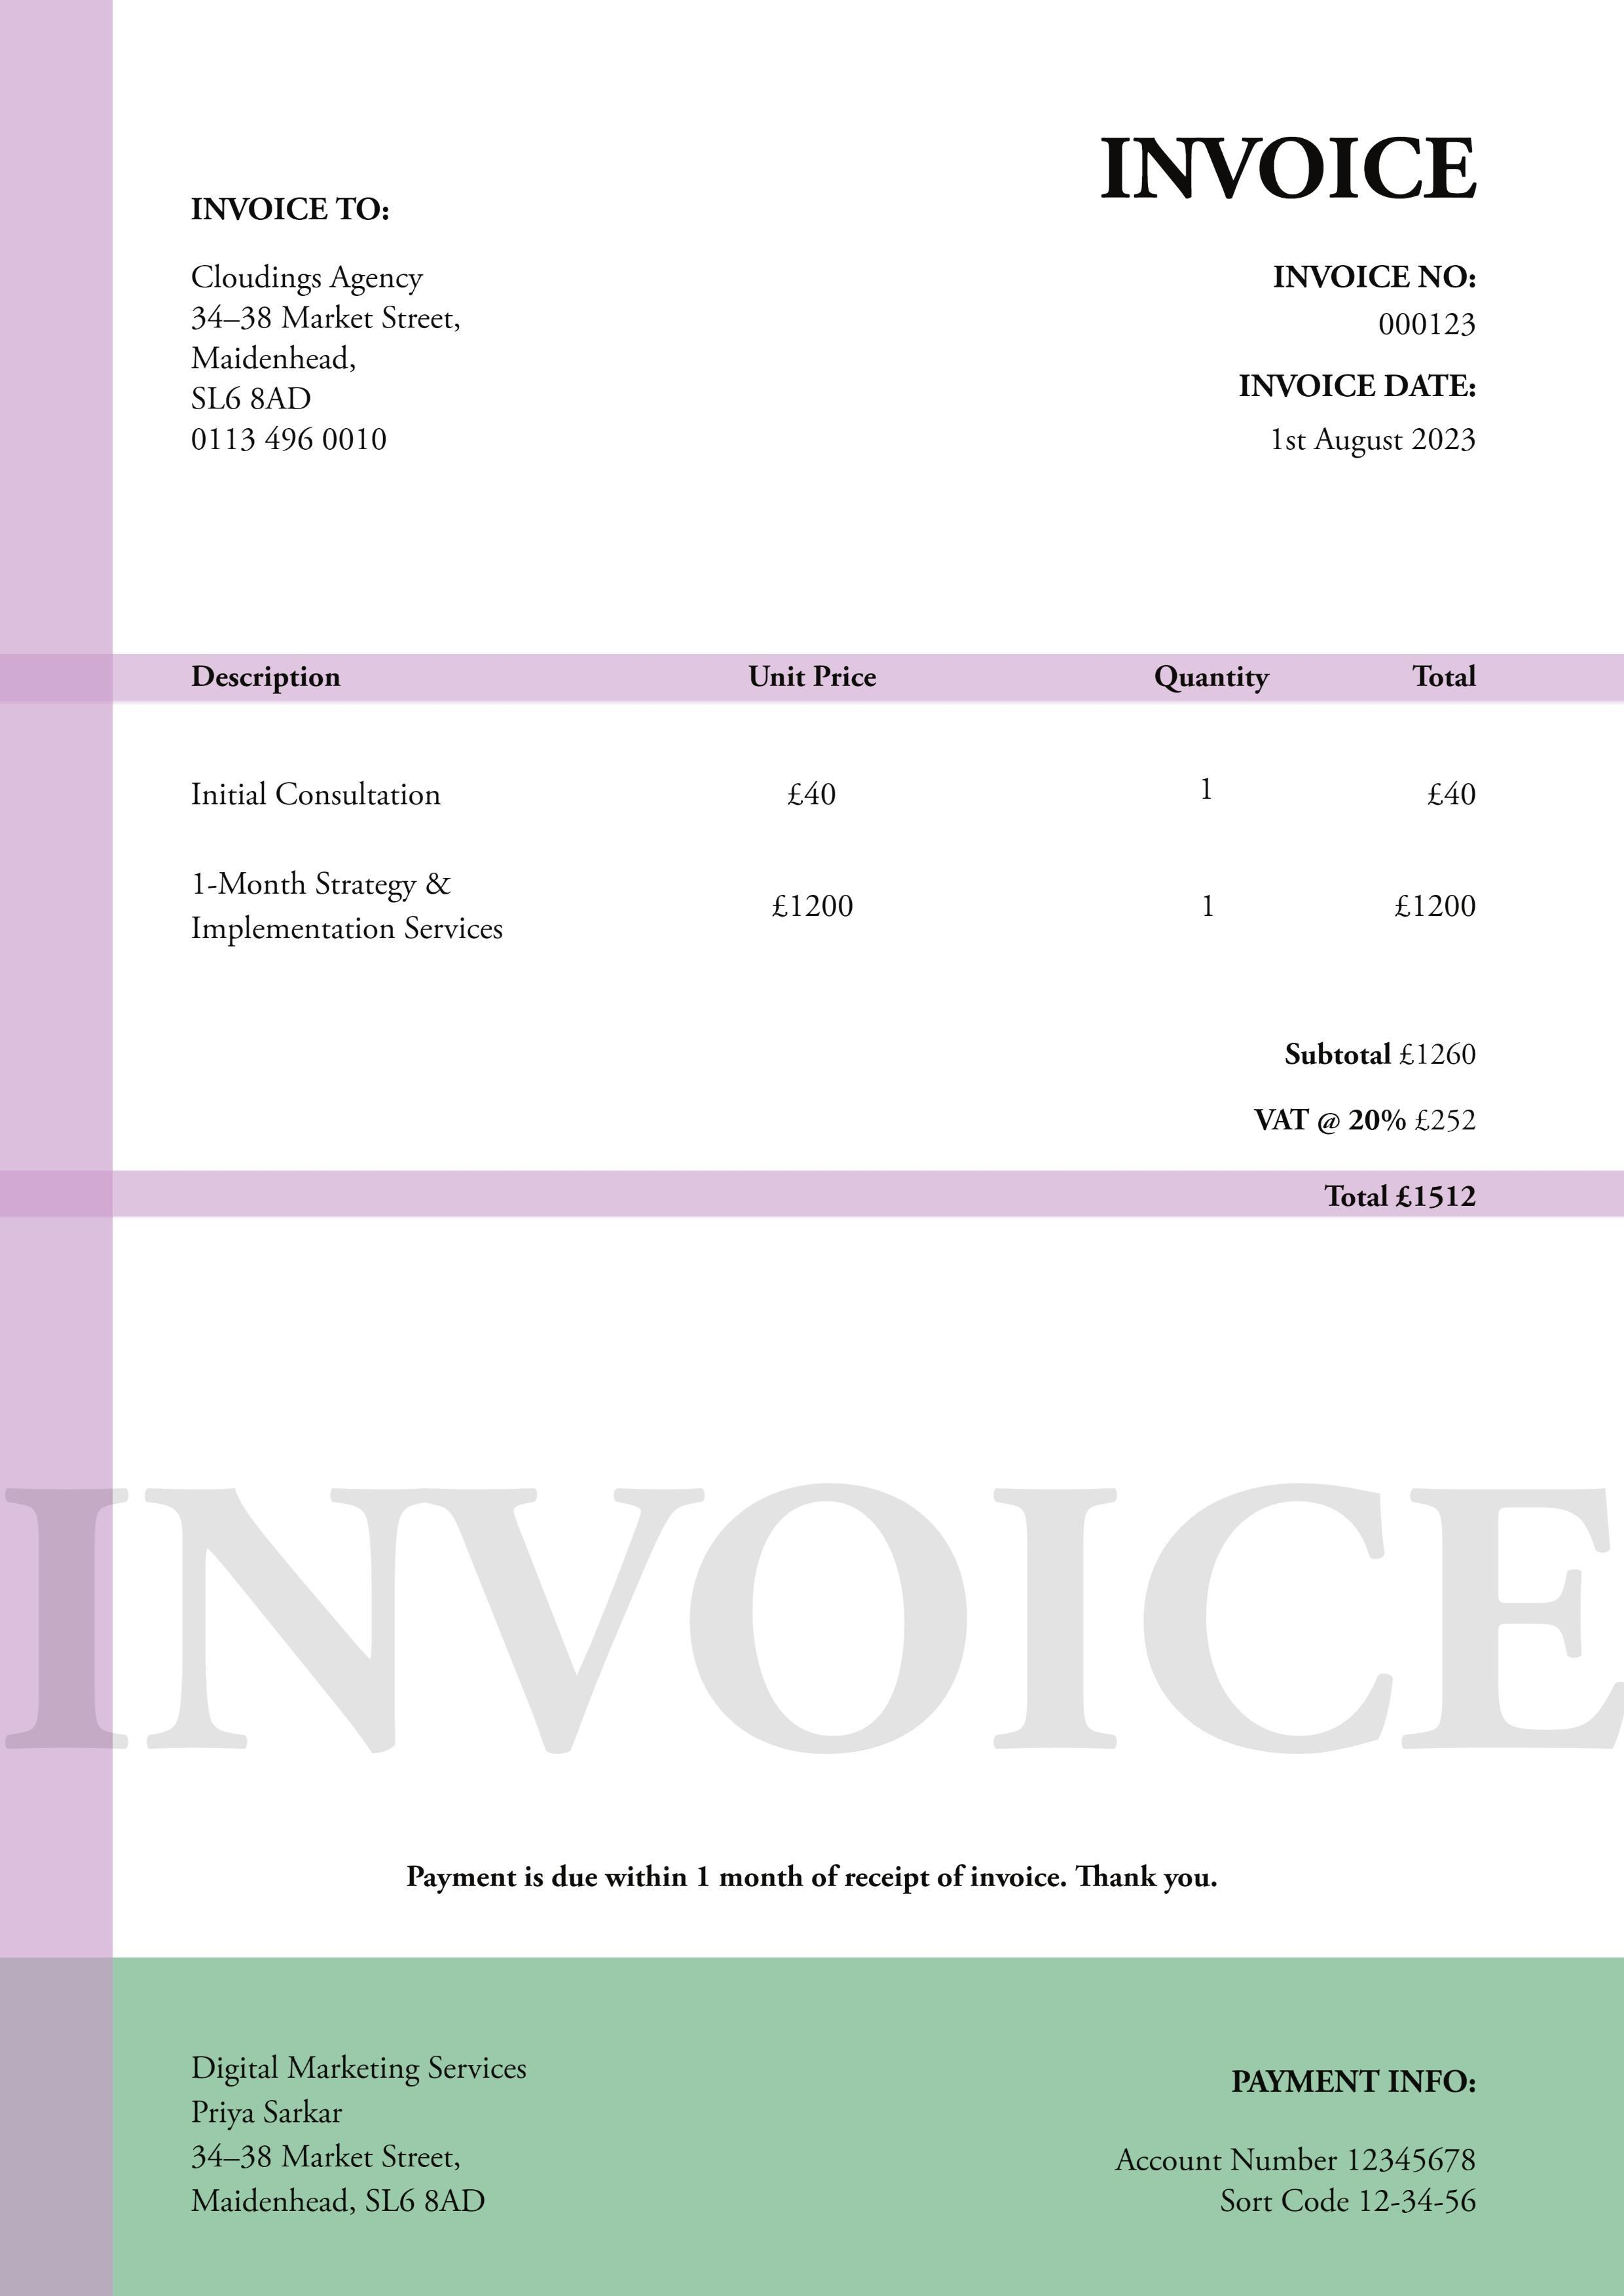ROI: (179, 657, 1500, 961), (179, 187, 464, 472), (185, 2029, 557, 2231), (1103, 2054, 1514, 2229), (1235, 253, 1486, 474), (1247, 1029, 1486, 1213)
